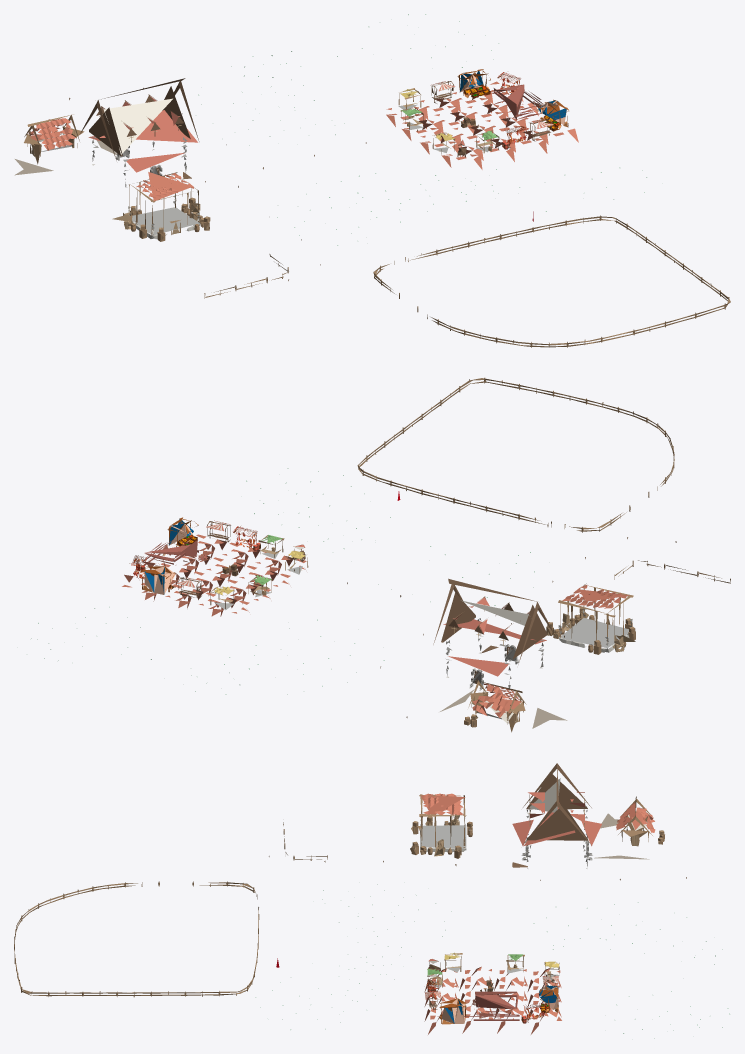
The model's file is chunk_2_1_lod2.glb.
The picture shows the model from 3 angles, top to bottom: view 1: azimuth 30°, elevation 25°; view 2: azimuth 150°, elevation 25°; view 3: azimuth 270°, elevation 25°; orthographic projection. The views are drawn at different scales.
Visible parts, largest first — view 1: Batched_Chunk_2_1.001; view 2: Batched_Chunk_2_1.001; view 3: Batched_Chunk_2_1.001.
Boxes of the visible parts, left/top/right/bottom form: Batched_Chunk_2_1.001: left=14, top=14, right=730, bottom=347; Batched_Chunk_2_1.001: left=31, top=377, right=730, bottom=732; Batched_Chunk_2_1.001: left=14, top=763, right=729, bottom=1038.
Size of the model in its own units: 99.86 by 18.25 by 134.
Materials: 40 (1 with a texture image).
